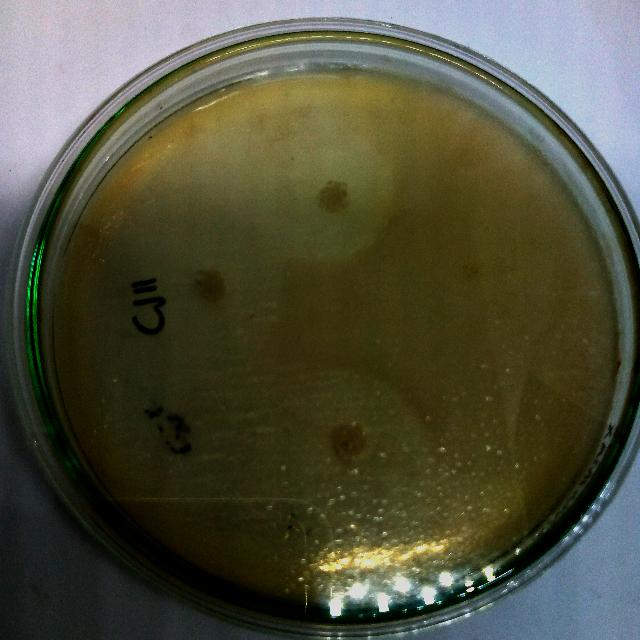colony: (324, 418, 370, 466), (189, 263, 233, 309), (314, 178, 354, 215)
